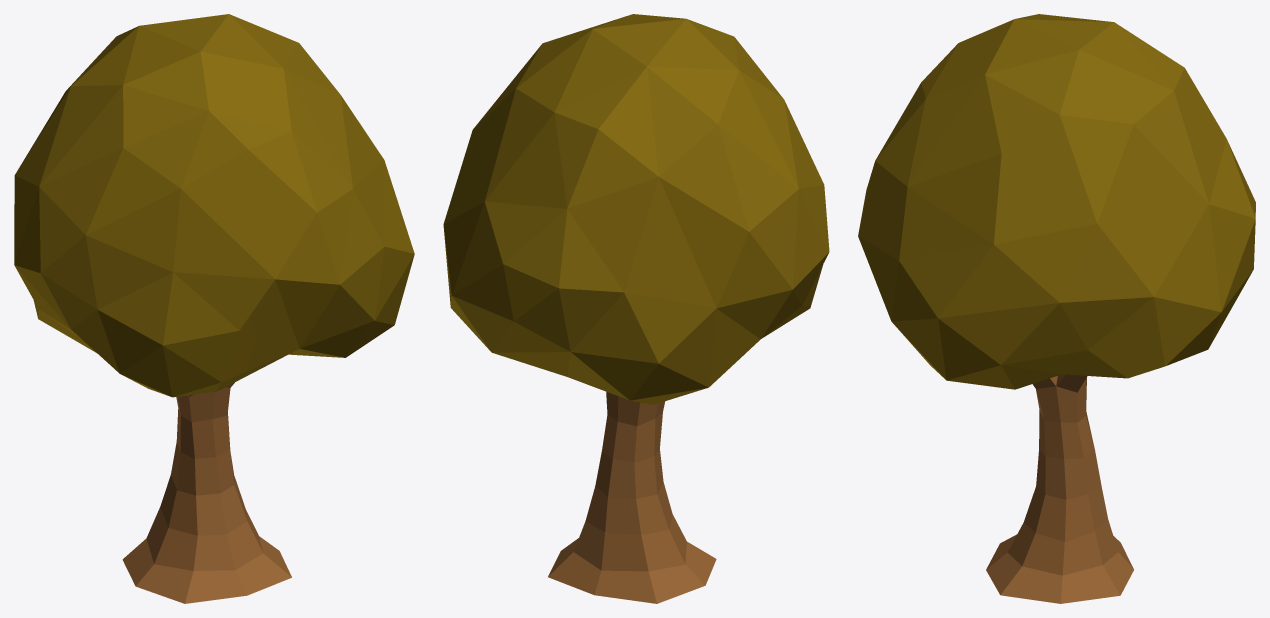
The model's file is MediumTree3.fbx.
The picture shows the model from 3 angles, left to right: view 1: azimuth 30°, elevation 25°; view 2: azimuth 150°, elevation 25°; view 3: azimuth 270°, elevation 25°; orthographic projection.
Parts seen in each view (by area): view 1: LowPoly Tree 01.002; view 2: LowPoly Tree 01.002; view 3: LowPoly Tree 01.002.
Part boxes in pixels (x1,y1,x2,y2): LowPoly Tree 01.002: (14,14,414,603); LowPoly Tree 01.002: (443,14,829,603); LowPoly Tree 01.002: (858,14,1255,603).
Size of the model in its own units: 392 by 580 by 391.
